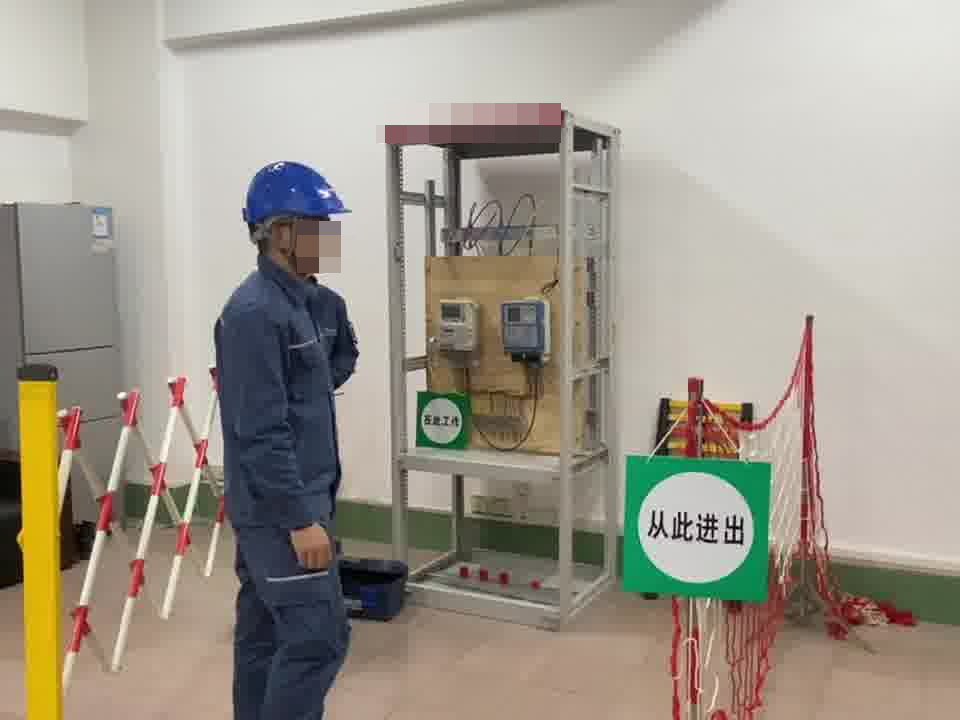downsuit: (227, 526, 354, 720)
halt: (238, 159, 353, 277)
hand: (290, 522, 336, 574)
inear: (263, 214, 300, 263)
intosign: (619, 445, 782, 612)
person: (202, 156, 362, 720)
upsuit: (209, 281, 355, 518)
worksign: (409, 380, 473, 458)
